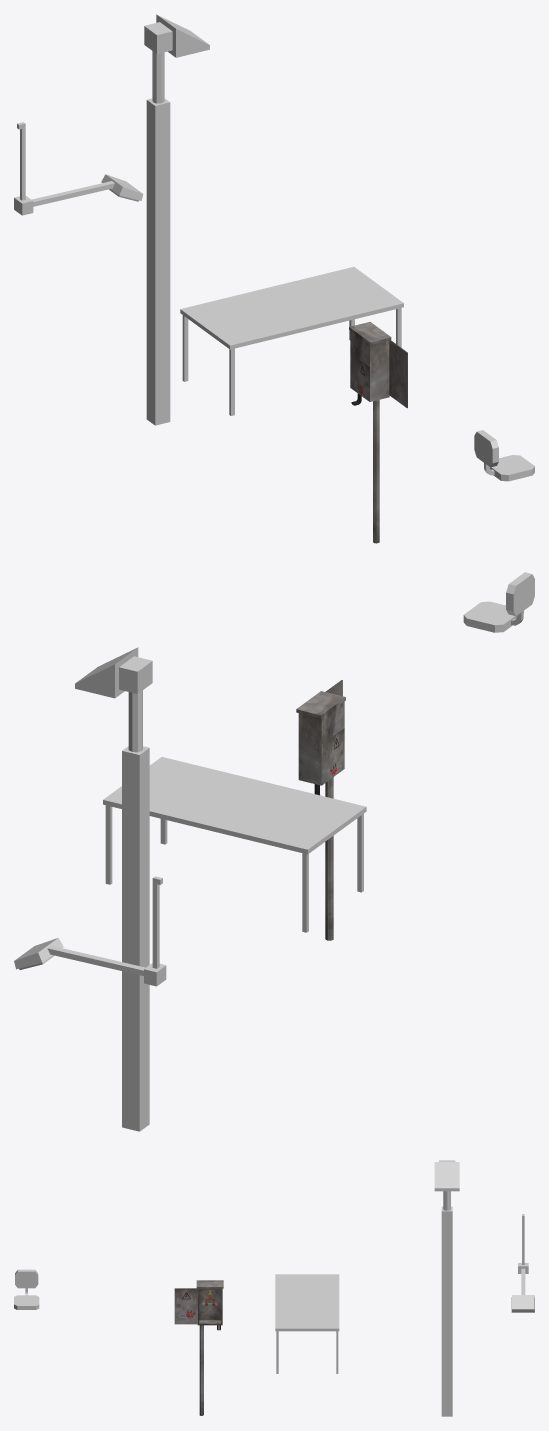
File: NIGGER.fbx
3 renders of one model, top to bottom at view 1: azimuth 30°, elevation 25°; view 2: azimuth 150°, elevation 25°; view 3: azimuth 270°, elevation 25°, orthographic. The views are drawn at different scales.
Parts seen in each view (by area): view 1: Cube.005, Cube, Cube.002, Cube.001, Cube.006, Cube.003, Cylinder; view 2: Cube.005, Cube, Cube.002, Cube.001, Cube.006, Cylinder; view 3: Cube.005, Cube, Cube.002, Cube.003, Cube.006, Cube.001, Cylinder.
Boxes of the visible parts, x1,y1,x2,y2 form: Cube.005: (180,267,403,415); Cube: (144,14,209,425); Cube.002: (349,322,391,401); Cube.001: (14,122,143,215); Cube.006: (474,430,534,481); Cube.003: (389,340,407,408); Cylinder: (373,400,379,543); Cube.005: (103,757,366,932); Cube: (75,647,152,1131); Cube.002: (296,691,345,785); Cube.001: (14,876,166,986); Cube.006: (463,572,534,632); Cylinder: (325,777,333,940); Cube.005: (275,1274,339,1373); Cube: (434,1160,459,1416); Cube.002: (196,1280,223,1325); Cube.003: (174,1288,197,1324); Cube.006: (14,1269,39,1309); Cube.001: (511,1214,534,1312); Cylinder: (199,1325,203,1415).
Bounding box in the file's own units: 1135 × 2234 × 4135.
3 materials, 2 textured.
